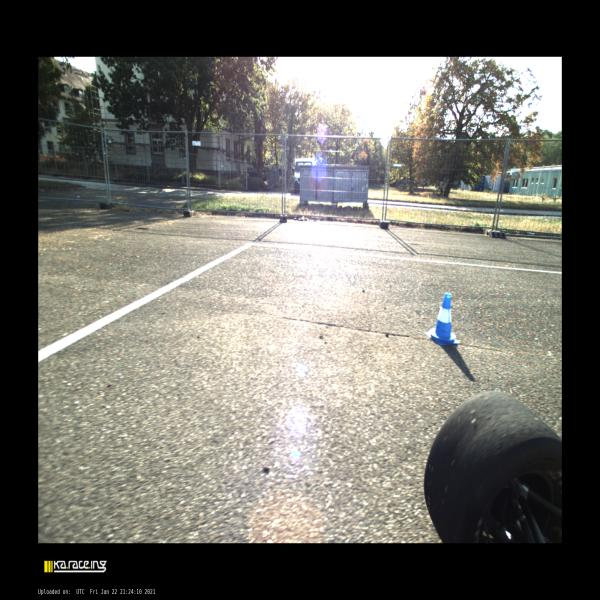blue_cone: (424, 293, 460, 345)
